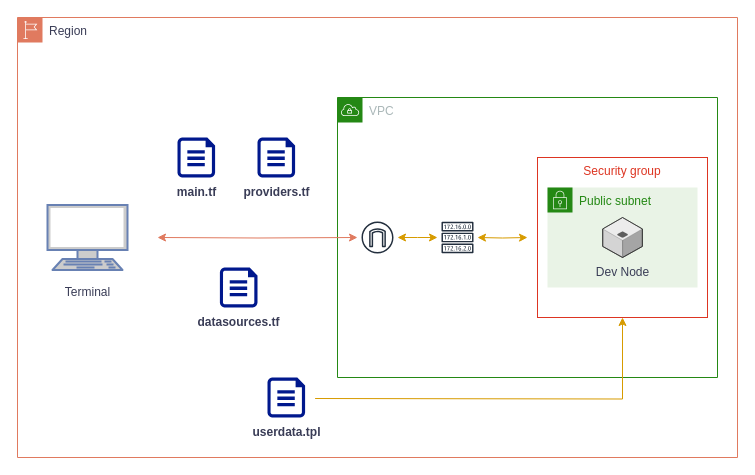
Some shapes in this 755 by 475 pixel diagram are drawn without their labels. Here are the shapes that lost their labels. From the top down, the centre of each, then its label:
point (377, 237): Internet gateway
point (457, 237): Public Route table
